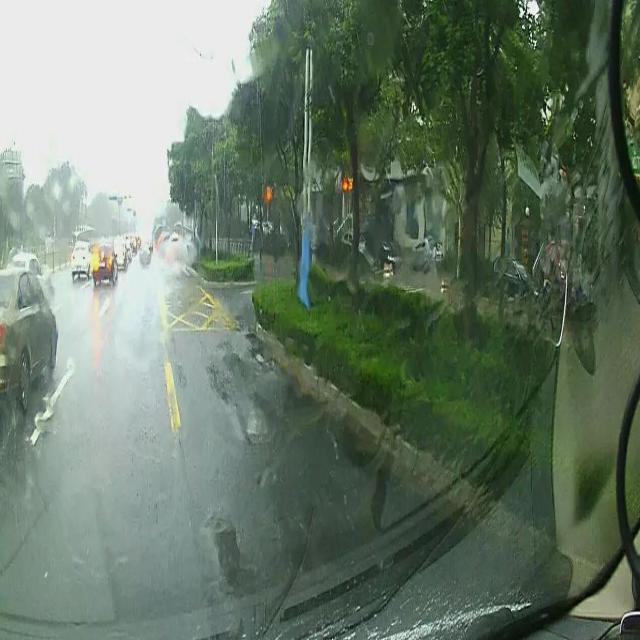car: (0, 269, 58, 412), (5, 252, 53, 292), (91, 244, 118, 284), (70, 240, 92, 280), (112, 238, 128, 266), (137, 240, 152, 260)
